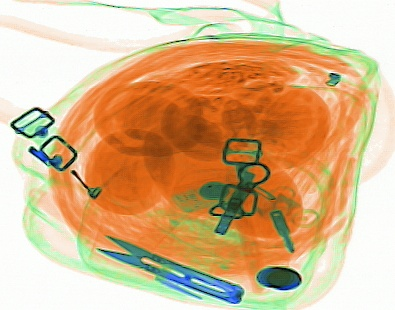scissors: (89, 229, 243, 305)
